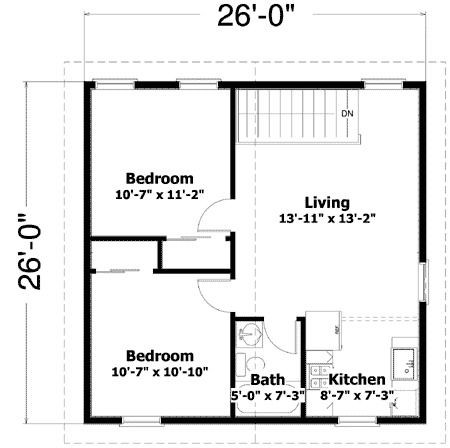door: (194, 273, 241, 319), (195, 187, 238, 236), (261, 318, 302, 360)
room: (233, 81, 429, 323), (84, 80, 239, 241), (86, 269, 230, 419), (300, 316, 423, 421), (232, 312, 308, 422)
wall: (81, 76, 97, 427), (159, 408, 337, 437), (415, 73, 432, 263), (218, 73, 364, 93), (415, 301, 437, 432), (85, 227, 167, 249), (228, 72, 240, 201), (149, 263, 239, 280), (135, 72, 180, 99), (377, 408, 429, 429), (297, 312, 311, 389), (224, 312, 238, 386), (79, 409, 121, 432), (226, 229, 242, 280), (152, 230, 168, 274), (403, 73, 429, 93), (226, 400, 240, 425), (298, 402, 310, 426)
window: (176, 65, 224, 106), (120, 401, 160, 440), (91, 69, 137, 100), (361, 69, 406, 100), (338, 407, 380, 433), (413, 260, 434, 306), (225, 387, 242, 404)
